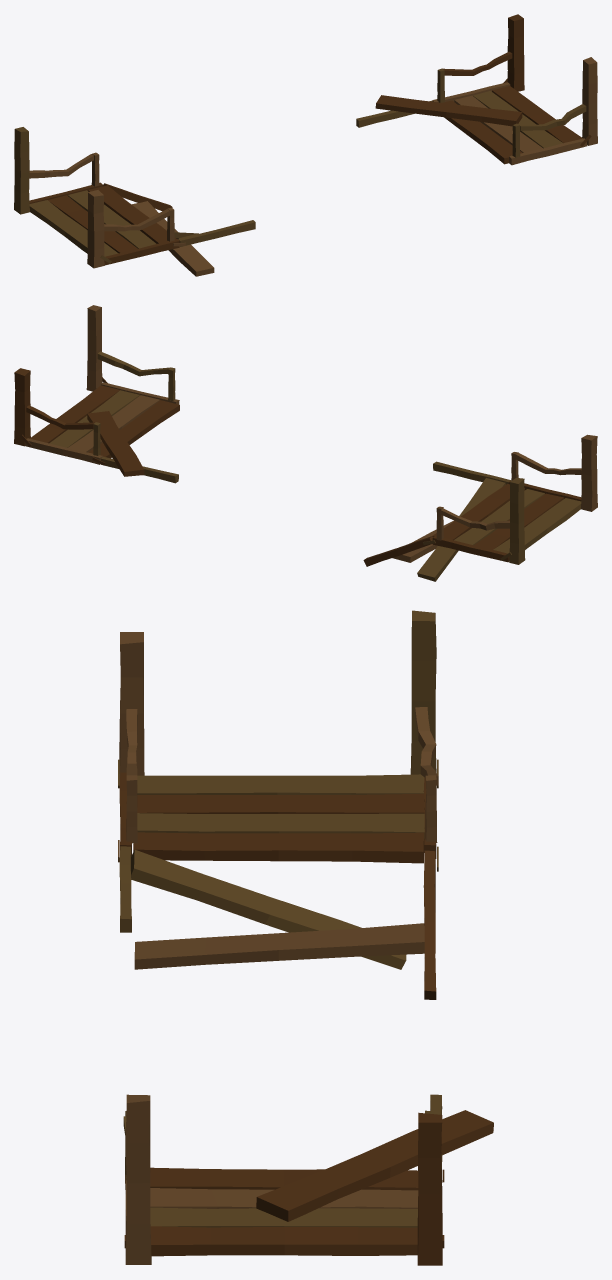
Rendered from asılköprüaq.fbx.
The picture shows the model from 3 angles, top to bottom: view 1: azimuth 30°, elevation 25°; view 2: azimuth 150°, elevation 25°; view 3: azimuth 270°, elevation 25°; orthographic projection. The views are drawn at different scales.
Visible parts, largest first — view 1: WoodWall.258, WoodWall.270; view 2: WoodWall.258, WoodWall.270; view 3: WoodWall.258, WoodWall.270.
Boxes of the visible parts, <box> form: WoodWall.258: <box>14,127,255,276</box>; WoodWall.270: <box>356,14,597,165</box>; WoodWall.258: <box>363,434,597,581</box>; WoodWall.270: <box>14,305,179,483</box>; WoodWall.258: <box>118,610,438,999</box>; WoodWall.270: <box>123,1094,493,1265</box>.
Size of the model in its own units: 767 by 185 by 248.
